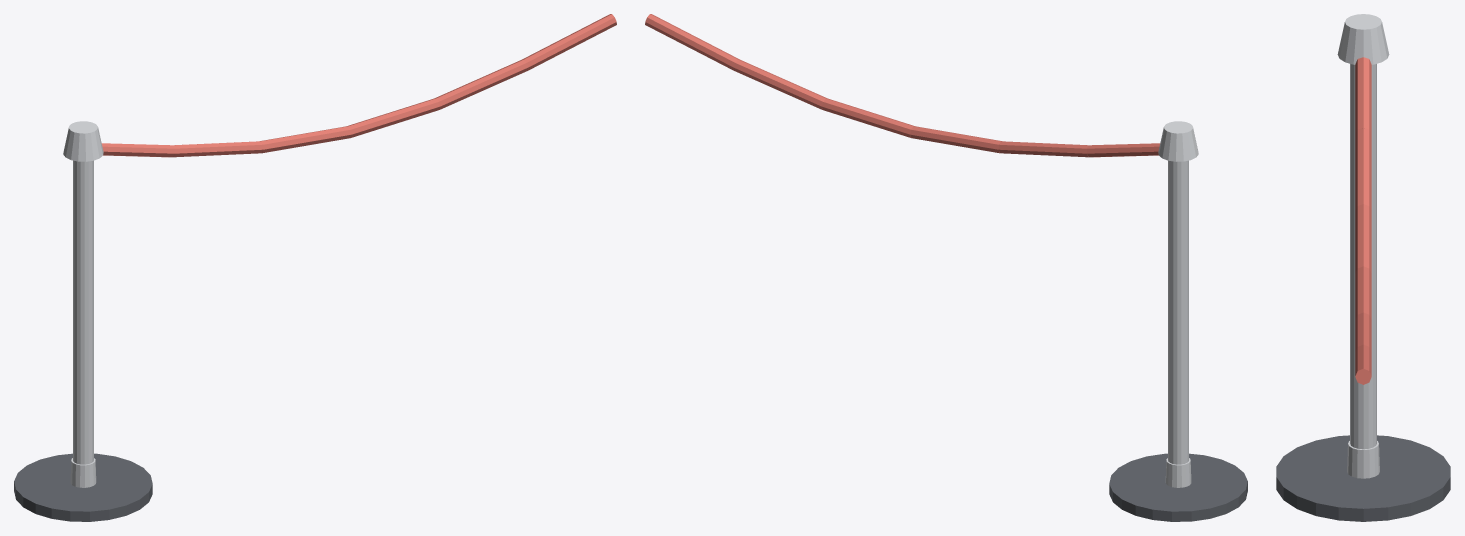
The picture shows the model from 3 angles, left to right: view 1: azimuth 30°, elevation 25°; view 2: azimuth 150°, elevation 25°; view 3: azimuth 270°, elevation 25°; orthographic projection. The views are drawn at different scales.
Parts seen in each view (by area): view 1: rope-barrier-post; view 2: rope-barrier-post; view 3: rope-barrier-post.
Boxes of the visible parts, bbox=[...] form: rope-barrier-post: bbox=[14, 14, 616, 521]; rope-barrier-post: bbox=[645, 14, 1247, 521]; rope-barrier-post: bbox=[1276, 14, 1450, 521].
Bounding box in the file's own units: 1.67 × 0.988 × 0.3366.
